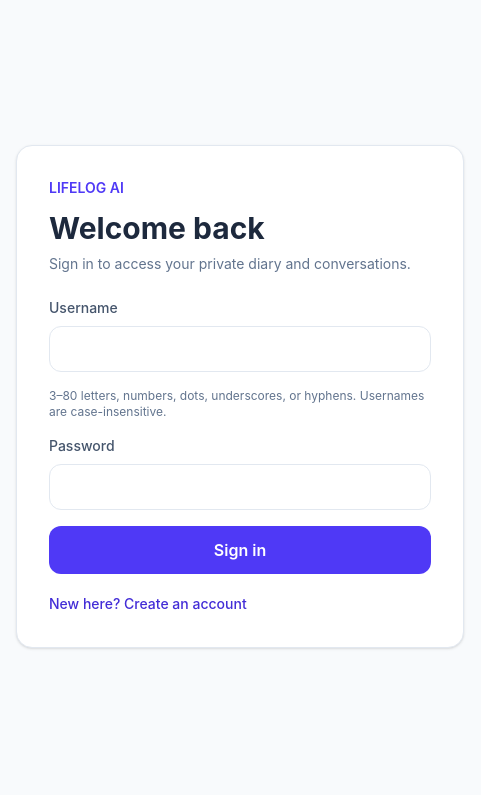
Test: Account screen › checks password confirmation before registering
The width and height of the screenshot is (481, 795).
Expected: the heading "Welcome back" is shown, [49,210,265,246]
Click the button "New here? Create an account" at point(148, 604), box [49,594,247,614]
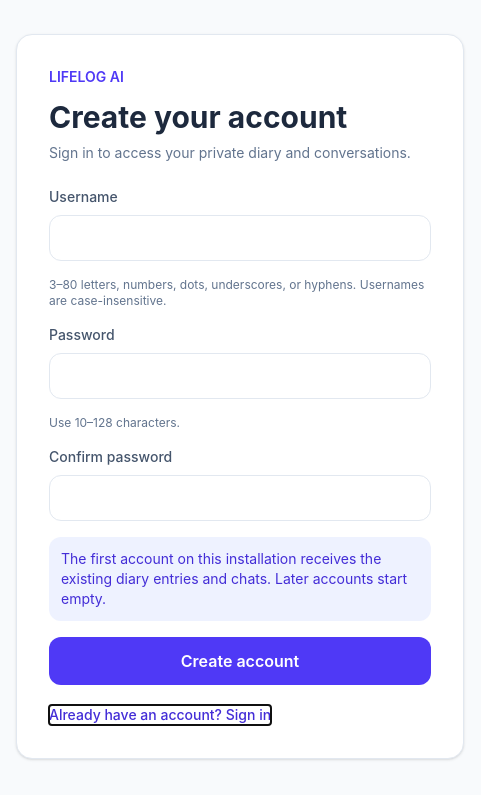
Type "owner" into the field labelled "Username" at point(240, 238), box [49,214,431,260]
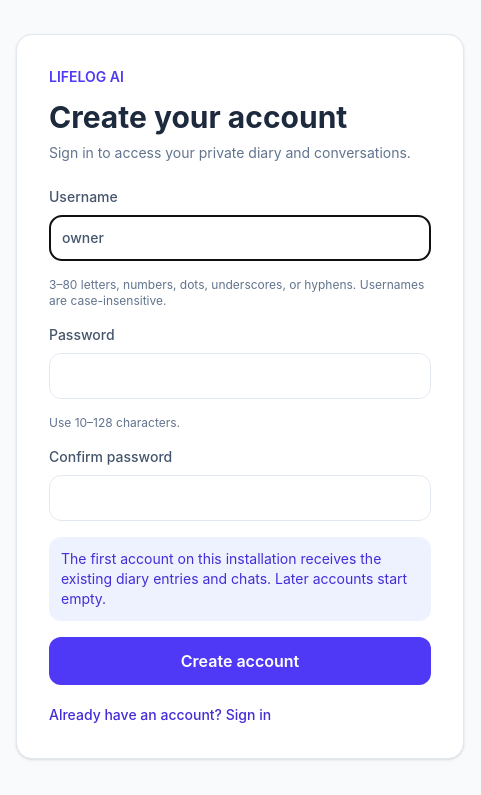
Type "synthetic-password" into the password field labelled "Password" at point(240, 376), box [49,352,431,398]
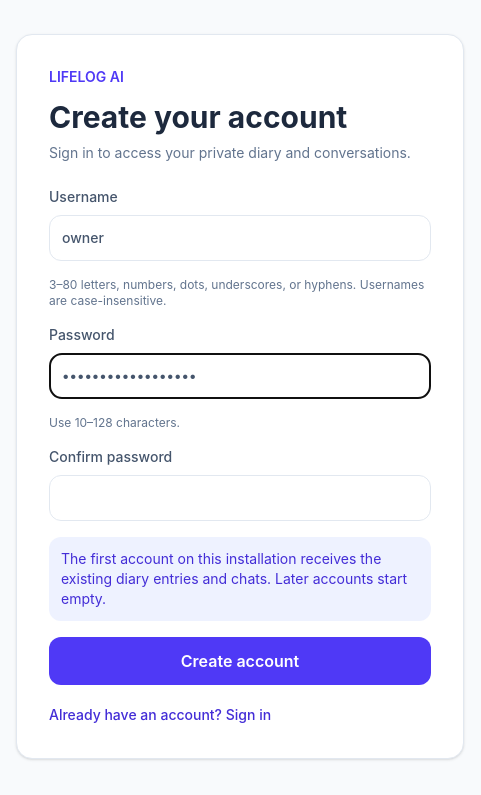
Type "different-password" into the password field labelled "Confirm password" at point(240, 498), box [49,474,431,520]
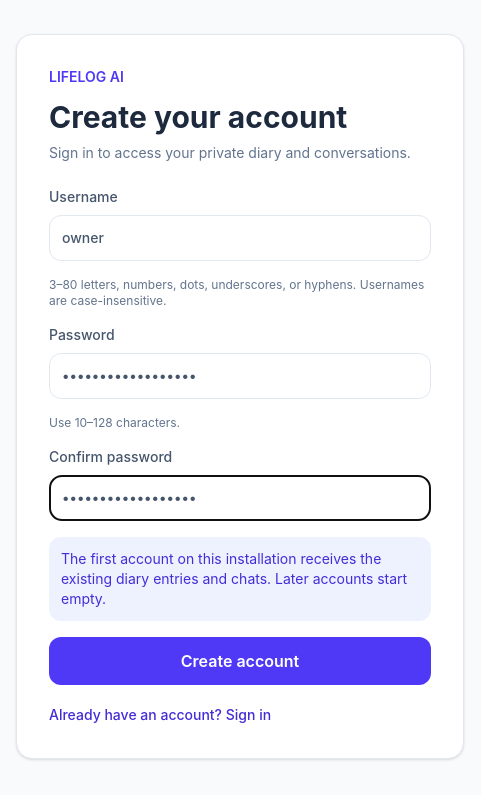
Click the button "Create account" at point(240, 660), box [49,636,431,684]
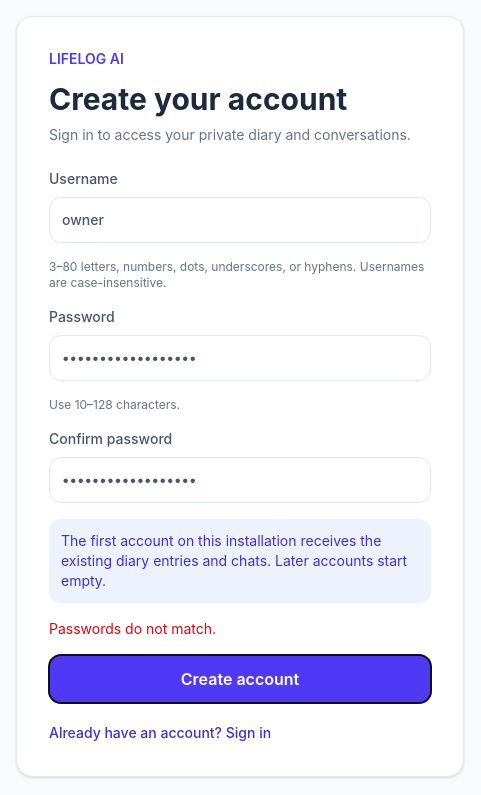
Now the message shows "Passwords do not match", box [49,620,216,637]
